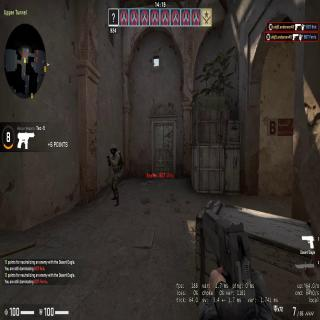CT-Body: (104, 139, 125, 209)
CT-Head: (110, 144, 116, 153)
